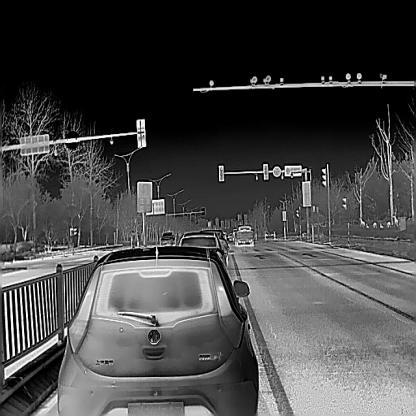car: (58, 246, 258, 415), (176, 230, 228, 270), (234, 225, 254, 244), (209, 228, 225, 247), (159, 230, 175, 244)
